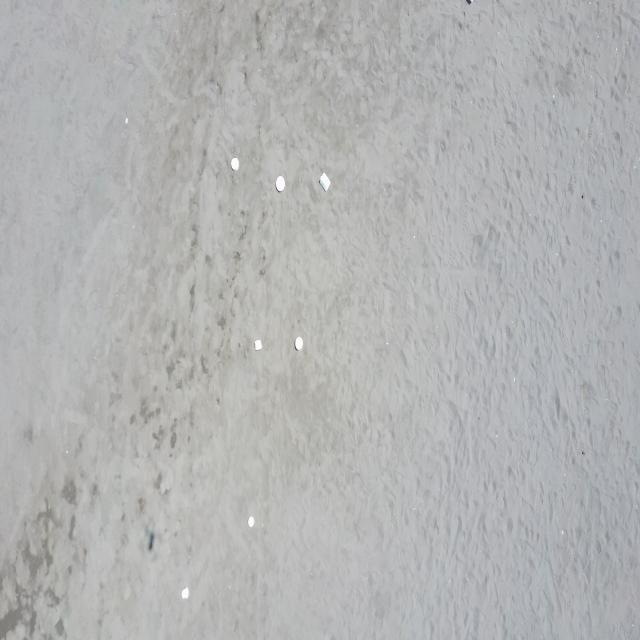take-away-containers: (320, 172, 331, 192), (276, 176, 286, 192), (295, 336, 304, 350), (231, 157, 239, 172), (254, 338, 262, 351), (182, 587, 189, 600), (248, 516, 255, 528)
